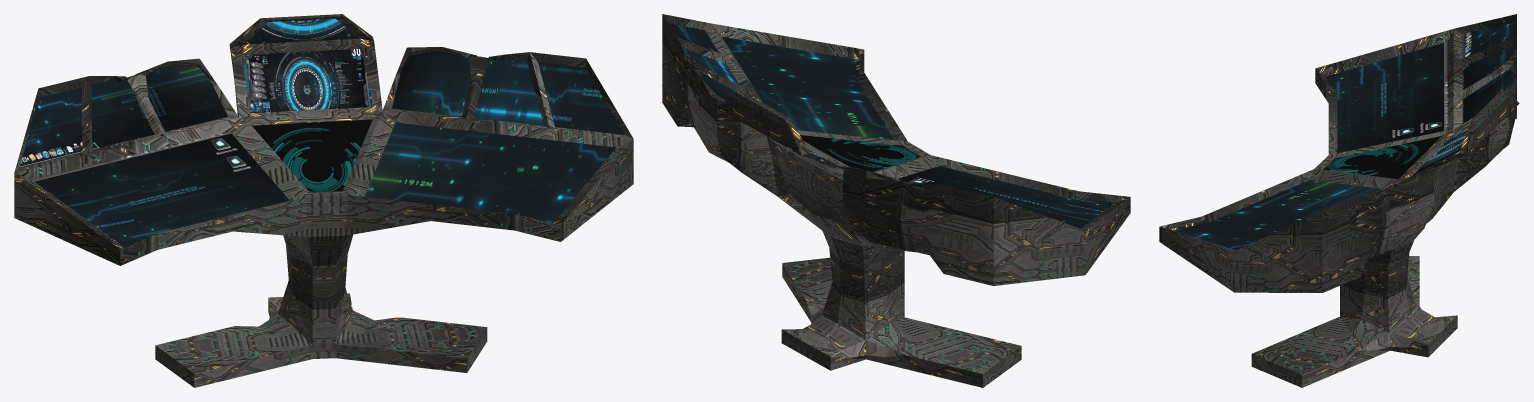
Rendered from terminal.gltf.
3 renders of one model, left to right at view 1: azimuth 30°, elevation 25°; view 2: azimuth 150°, elevation 25°; view 3: azimuth 270°, elevation 25°, orthographic. The views are drawn at different scales.
Visible parts, largest first — view 1: MaterialFBXASC032FBXASC0352142148579; view 2: MaterialFBXASC032FBXASC0352142148579; view 3: MaterialFBXASC032FBXASC0352142148579.
Boxes of the visible parts, x1,y1,x2,y2 form: MaterialFBXASC032FBXASC0352142148579: (14, 14, 633, 387); MaterialFBXASC032FBXASC0352142148579: (662, 14, 1130, 387); MaterialFBXASC032FBXASC0352142148579: (1159, 14, 1519, 387).
Bounding box in the file's own units: 31.65 × 16.27 × 21.63.
4 materials, 4 textured.
